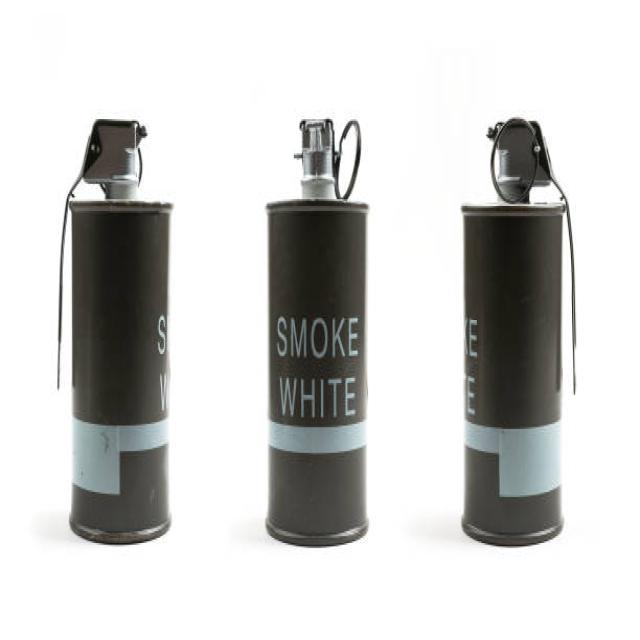grenade: (54, 114, 179, 553), (458, 112, 581, 553), (259, 116, 378, 555)
